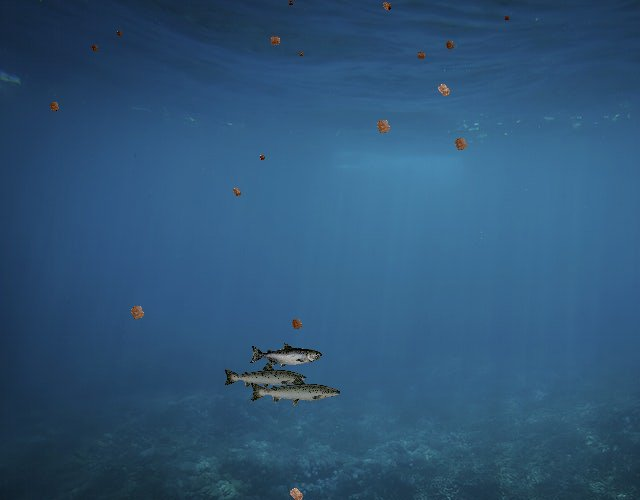Fish: (249, 374, 343, 408), (222, 361, 308, 392), (250, 343, 323, 369)
Pellet: (123, 298, 151, 326), (430, 77, 457, 104), (448, 131, 473, 157), (282, 480, 310, 500), (286, 313, 308, 335), (228, 183, 245, 201), (256, 152, 268, 164)
